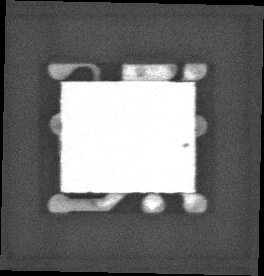DIE_INK: (172, 148, 183, 155)
